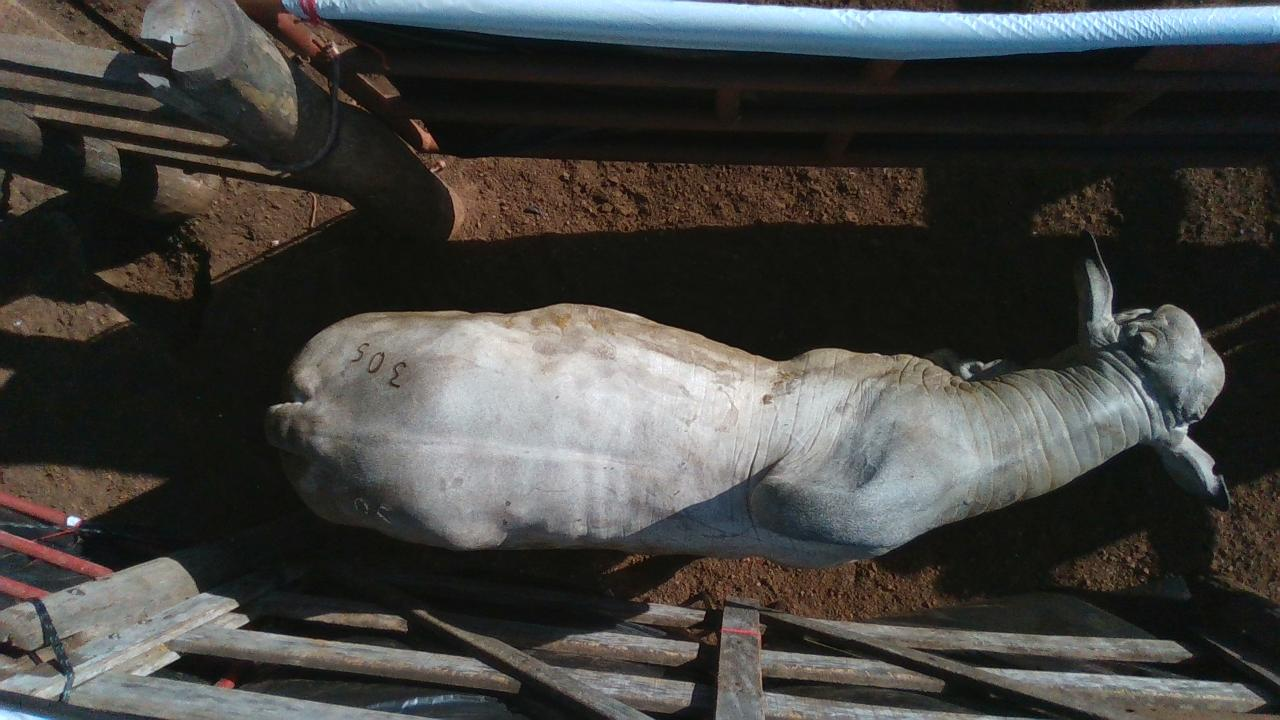cattle: (263, 236, 1232, 571)
